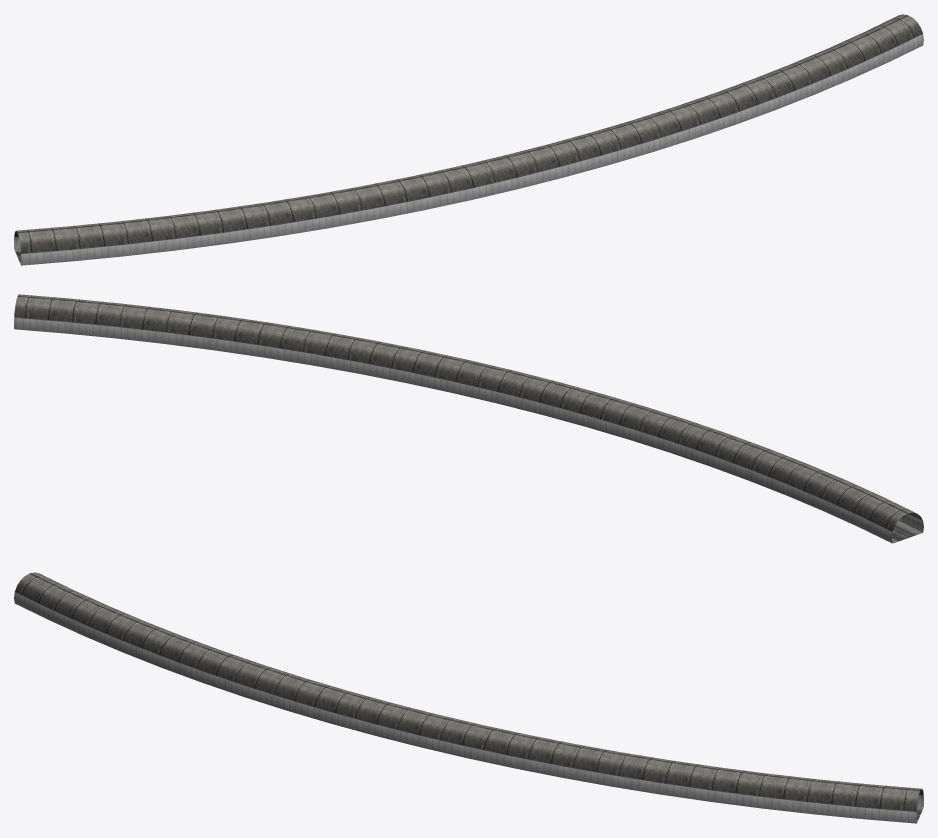
Rendered from tunnel_road.glb.
3 renders of one model, top to bottom at view 1: azimuth 30°, elevation 25°; view 2: azimuth 150°, elevation 25°; view 3: azimuth 330°, elevation 25°, orthographic.
Visible parts, largest first — view 1: tunnel_2; view 2: tunnel_2; view 3: tunnel_2.
Boxes of the visible parts, bbox=[...] form: tunnel_2: bbox=[14, 14, 923, 265]; tunnel_2: bbox=[14, 294, 923, 543]; tunnel_2: bbox=[14, 572, 923, 823].
Bounding box in the file's own units: 4.97 × 0.1309 × 0.6259.
1 material, 1 textured.
